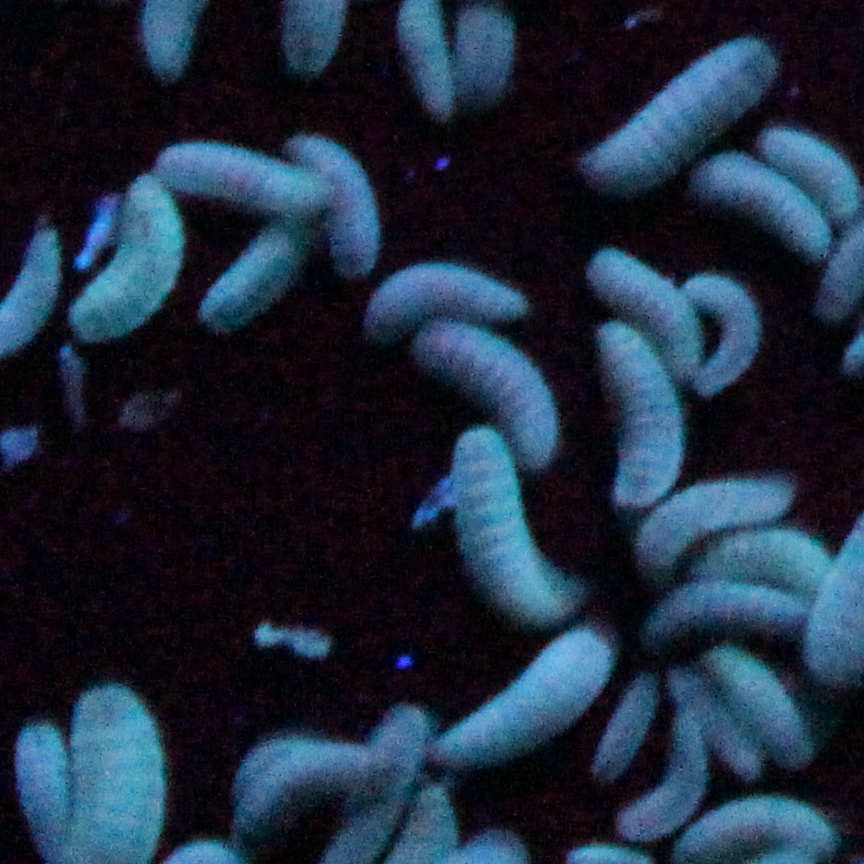larve: (559, 34, 772, 182), (454, 421, 579, 623), (429, 623, 606, 759), (224, 716, 393, 846), (420, 314, 559, 468), (590, 321, 688, 509), (70, 178, 177, 341), (163, 128, 329, 228), (295, 123, 393, 287), (586, 239, 706, 371), (186, 221, 318, 337), (640, 475, 793, 566), (718, 650, 831, 771), (709, 150, 831, 248), (643, 800, 852, 857), (618, 723, 715, 841), (674, 666, 772, 775), (684, 271, 765, 400), (354, 266, 540, 321), (652, 582, 799, 643), (688, 525, 840, 575), (602, 680, 668, 771)
